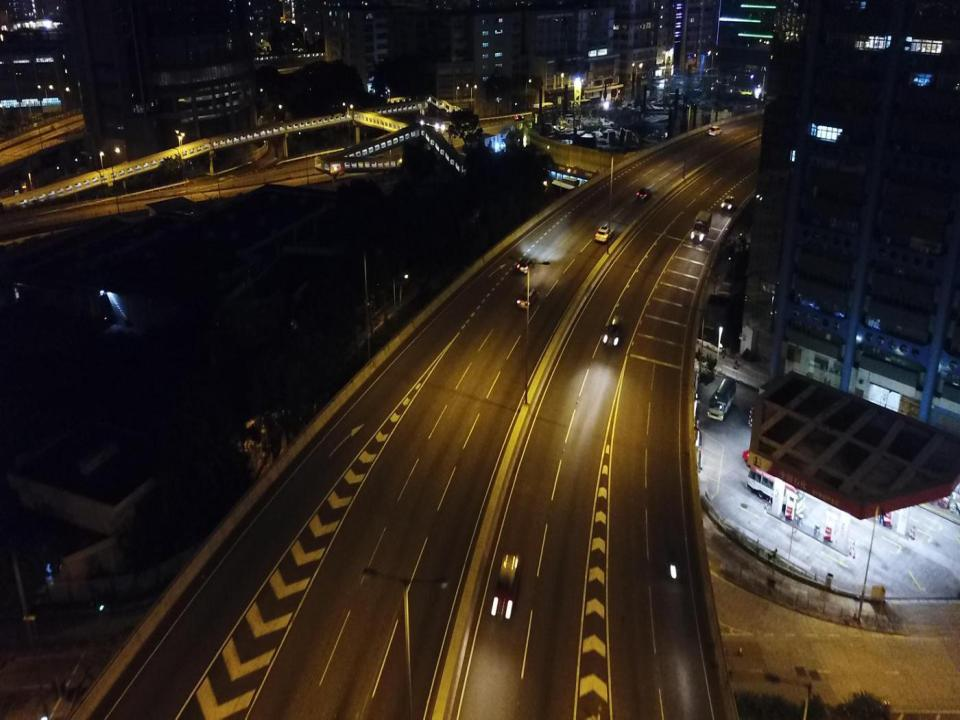bus: (746, 462, 806, 514), (707, 376, 736, 422)
car: (492, 552, 522, 623), (603, 315, 623, 348), (517, 287, 538, 311), (594, 226, 614, 244), (516, 258, 535, 273), (636, 187, 652, 202), (721, 196, 735, 211), (708, 125, 721, 136), (513, 114, 524, 122)
truck: (690, 209, 712, 244)
